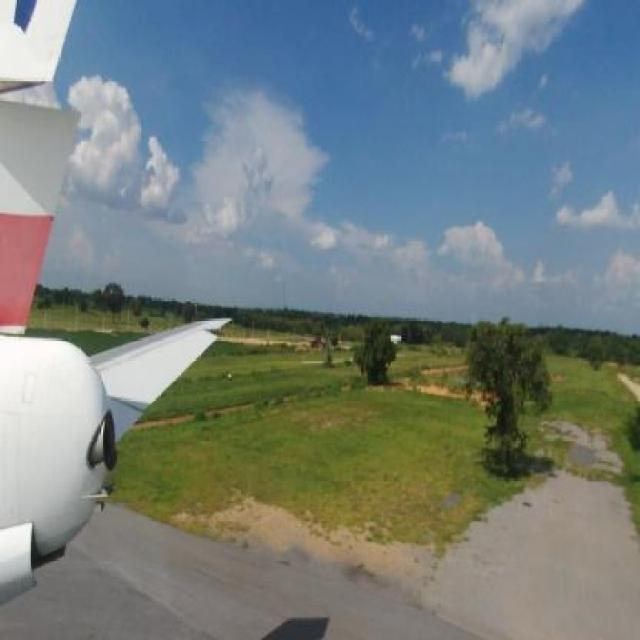Rust: (2, 322, 27, 346)
